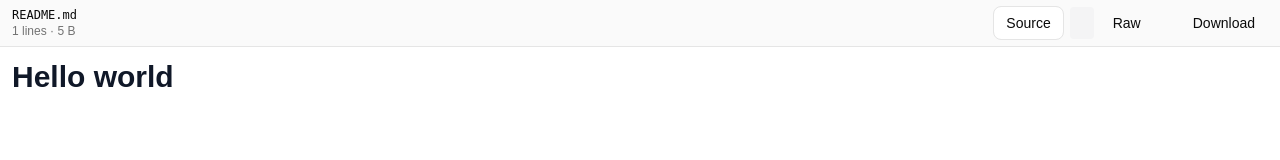
Scenario: FileViewer › renders markdown rendered by default, with a toggle to source
Expected: the heading "Hello world" is shown, [12,60,174,93]
Click the button "Source".
click(1029, 23)  # box [993,6,1064,40]
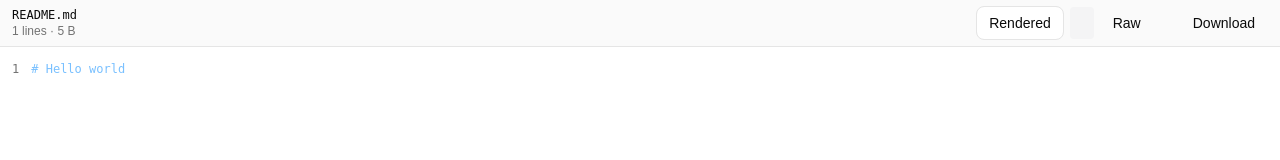
Now the element with class "hljs" reads "# Hello world", box [31,62,125,76]
